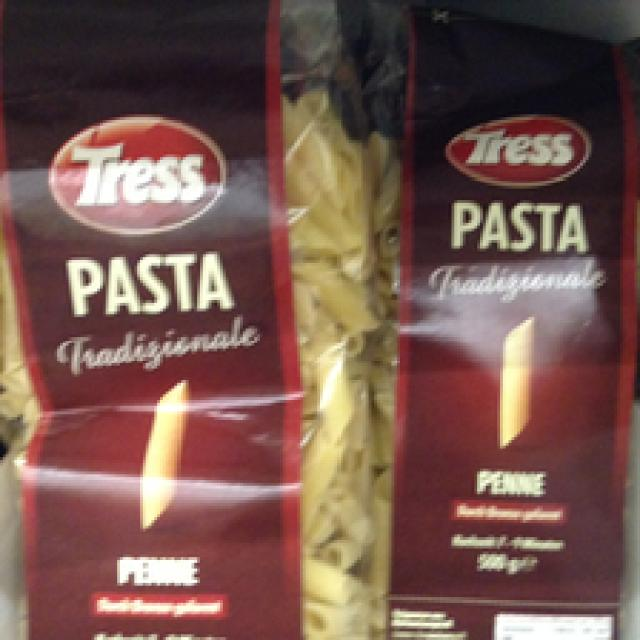groceries: (0, 2, 371, 637), (366, 6, 634, 637)
